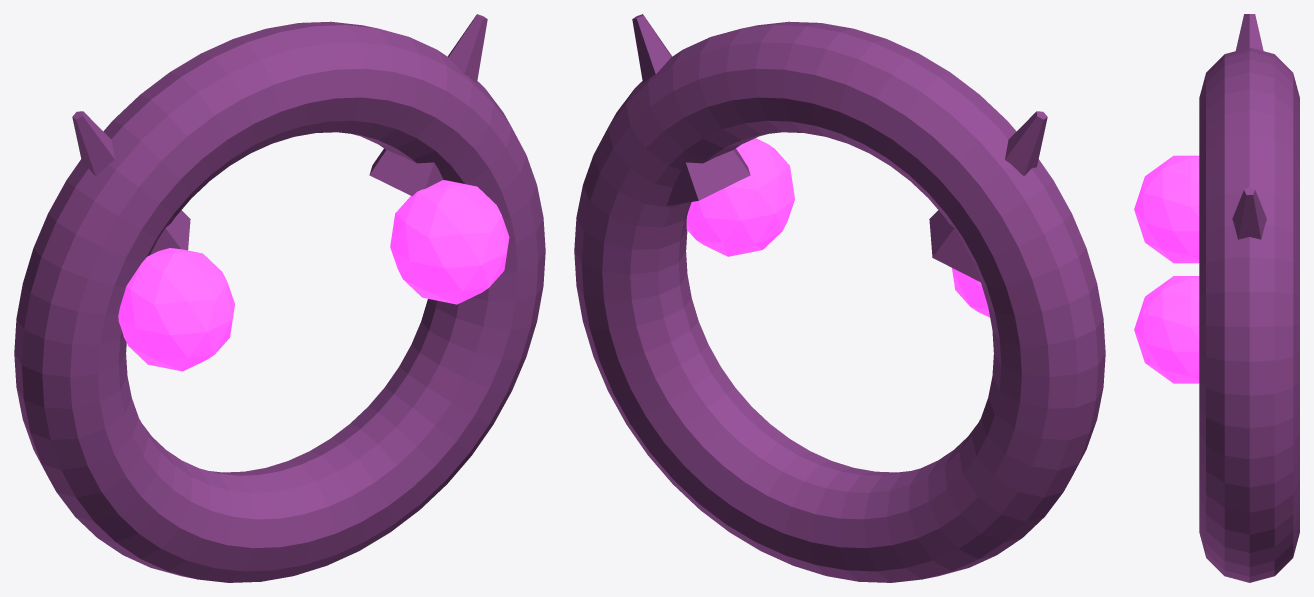
Rendered from SM_Briar_Pillory.fbx.
3 renders of one model, left to right at view 1: azimuth 30°, elevation 25°; view 2: azimuth 150°, elevation 25°; view 3: azimuth 270°, elevation 25°, orthographic. The views are drawn at different scales.
Parts seen in each view (by area): view 1: SM_Briar_Pillory; view 2: SM_Briar_Pillory; view 3: SM_Briar_Pillory.
Part boxes in pixels (<box>): SM_Briar_Pillory: <box>14,14,545,582</box>; SM_Briar_Pillory: <box>574,14,1105,582</box>; SM_Briar_Pillory: <box>1134,14,1299,582</box>.
Size of the model in its own units: 64 by 19.8 by 64.
